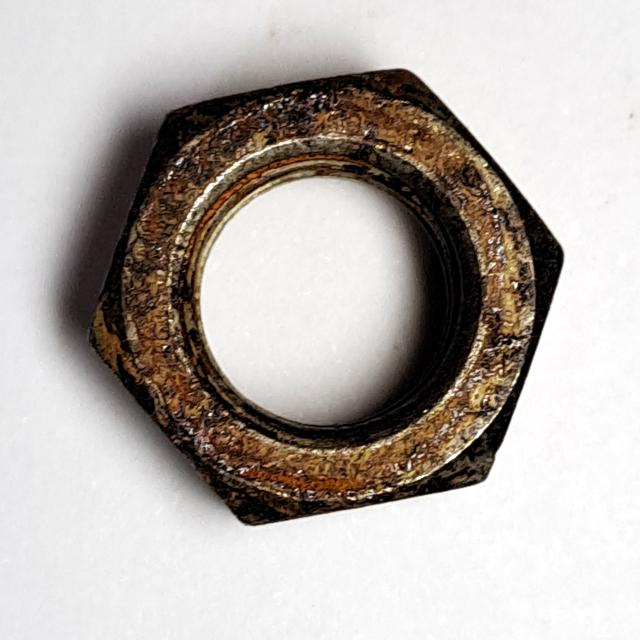Rust: (77, 55, 581, 545)
